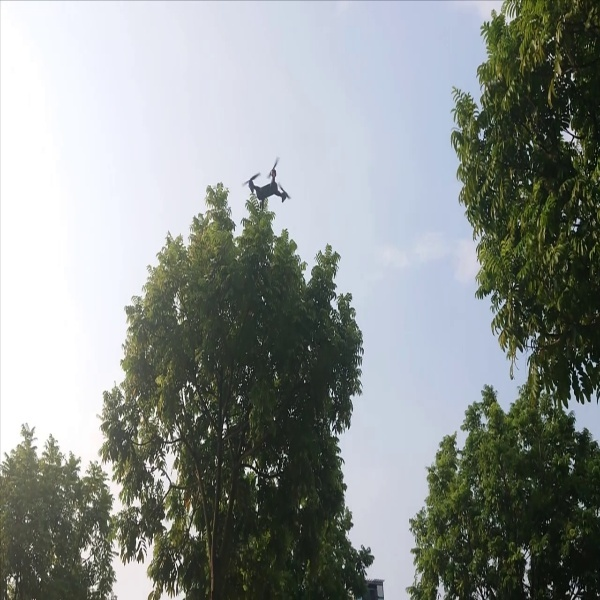drone: (239, 156, 297, 213)
